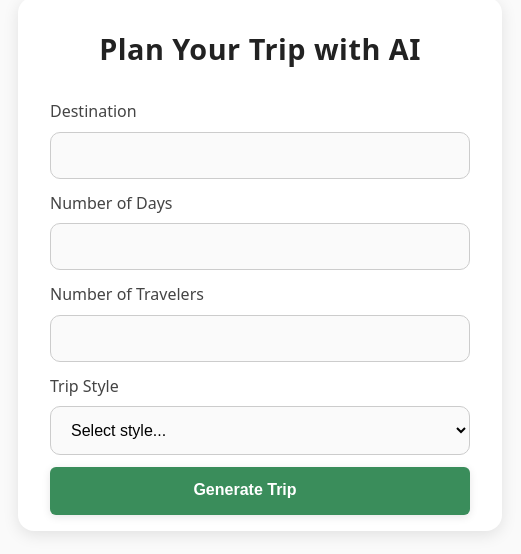
Test case: AiTripPlanner › shows loading state on submit
The image size is (521, 554).
Type "Paris" into the field at (260, 155), box top-left (50, 132), bottom-right (470, 179)
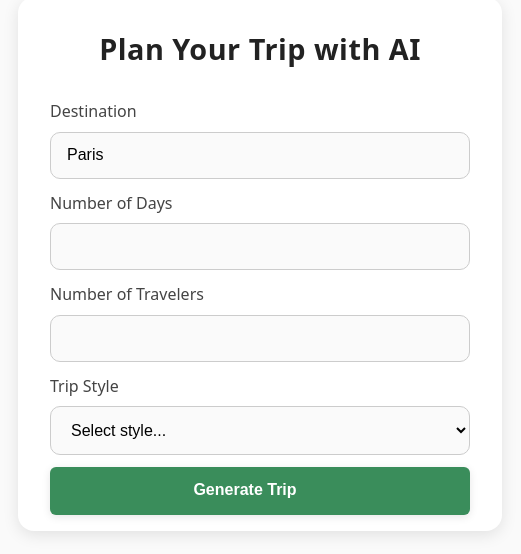
Type "5" into the number field labelled "Number of Days" at (260, 247), box top-left (50, 223), bottom-right (470, 270)
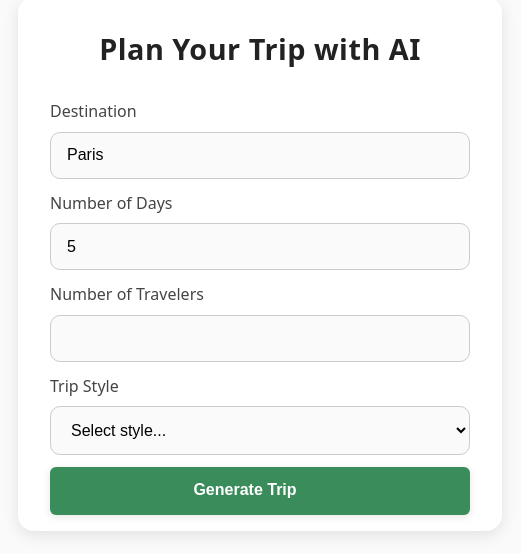
Type "2" into the number field labelled "Number of Travelers" at (260, 338), box top-left (50, 315), bottom-right (470, 362)
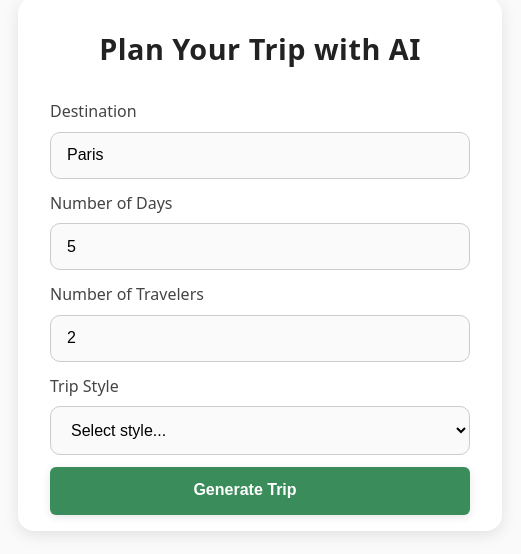
Select "Adventure" in the dropdown at (260, 430), box top-left (50, 406), bottom-right (470, 455)
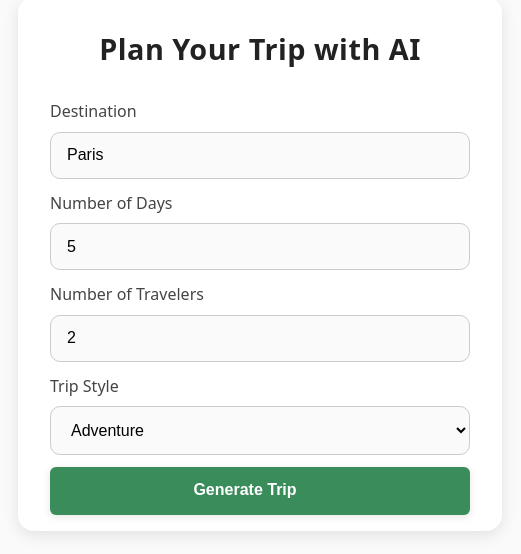
Click the button "Generate Trip" at (260, 491), box top-left (50, 467), bottom-right (470, 515)
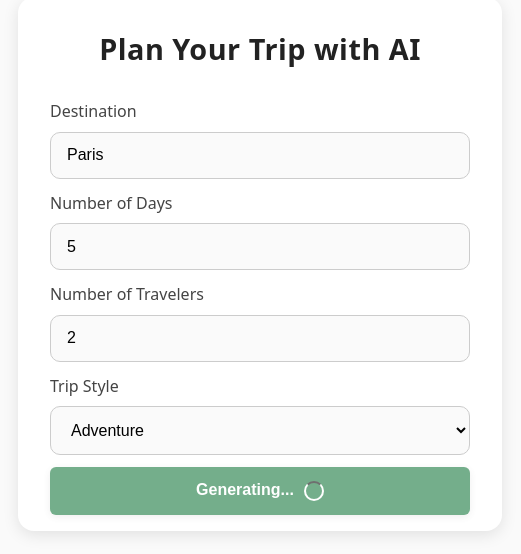
expect the button "Generating..." is disabled: met, box top-left (50, 467), bottom-right (470, 515)
